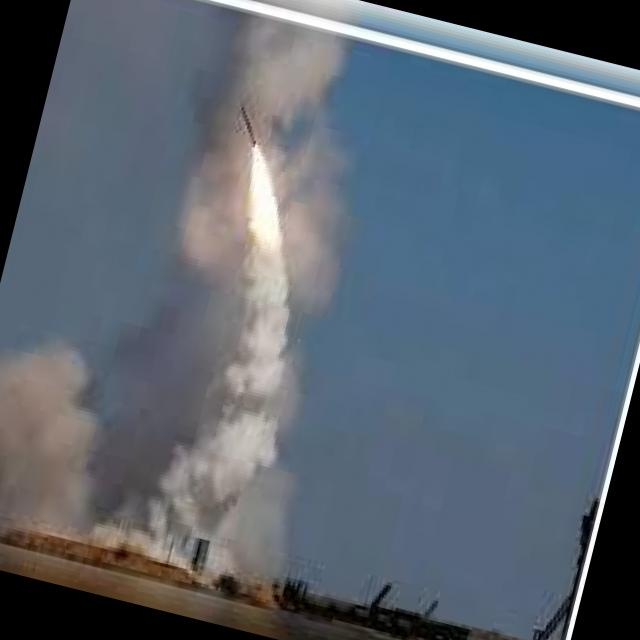rocket: (187, 91, 326, 327)
